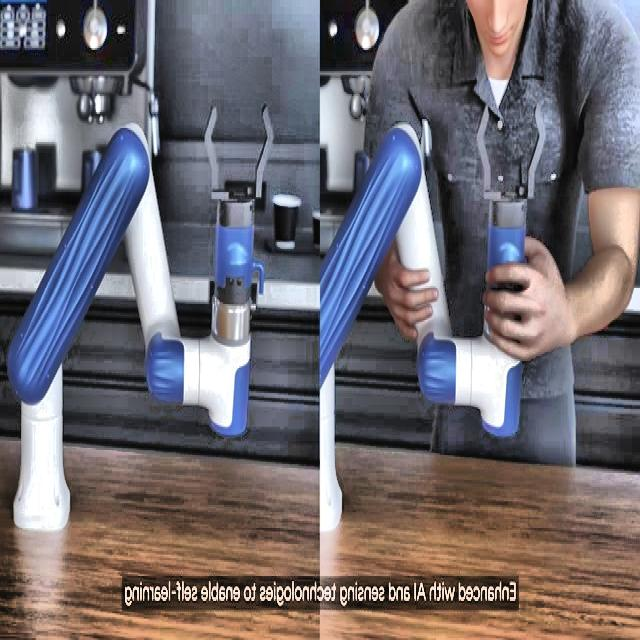robot: (7, 103, 273, 532), (318, 103, 547, 532)
